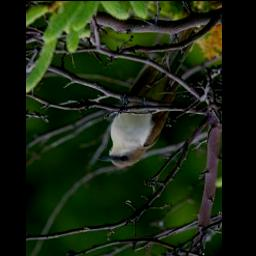Cuckoo: (103, 25, 202, 170)
